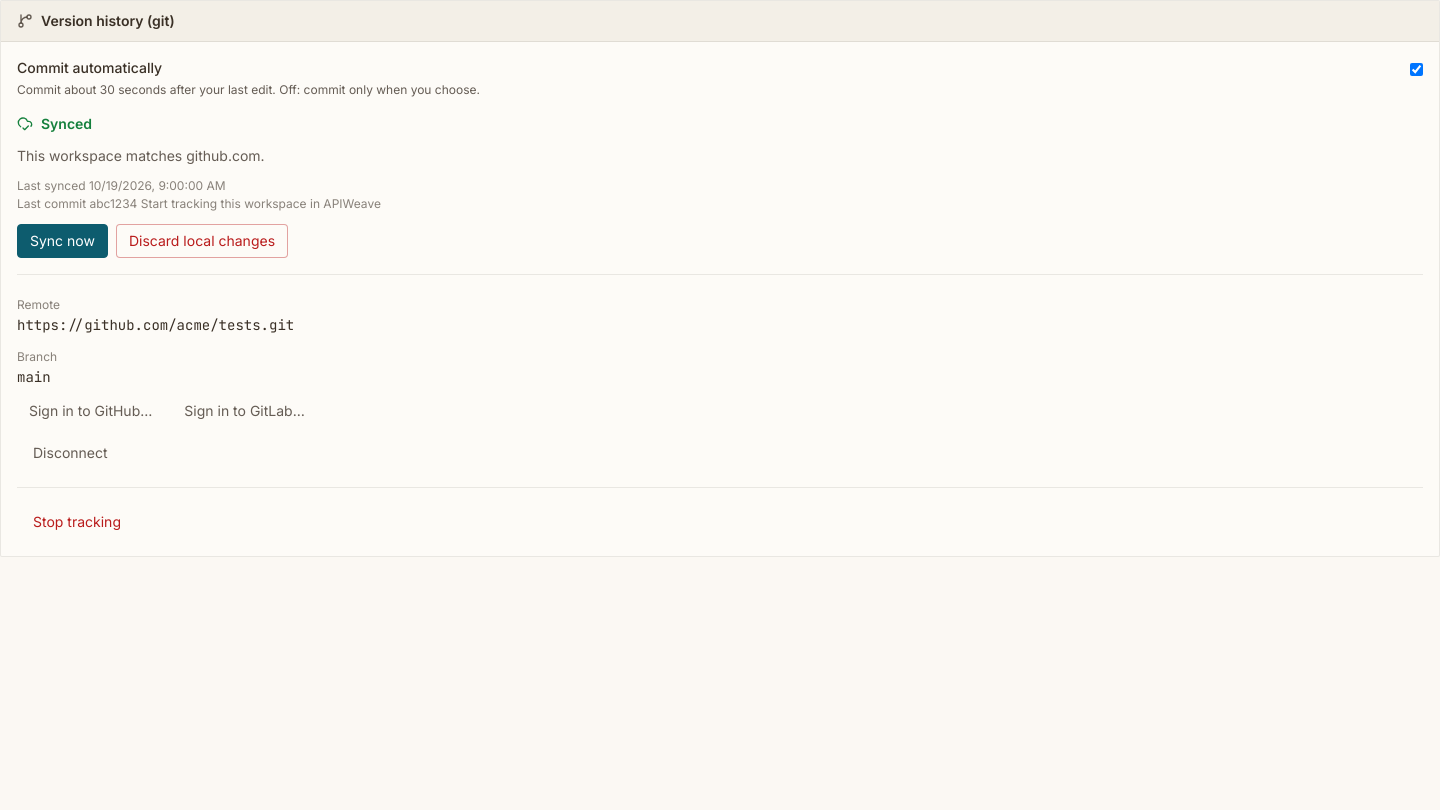
Test: VersionHistoryPanel › asks before it disconnects, then disconnects
Expected: the text "https://github.com/acme/tests.git" is shown, [17, 316, 294, 334]
Click the button "Disconnect" at [70, 453], box [17, 435, 124, 471]
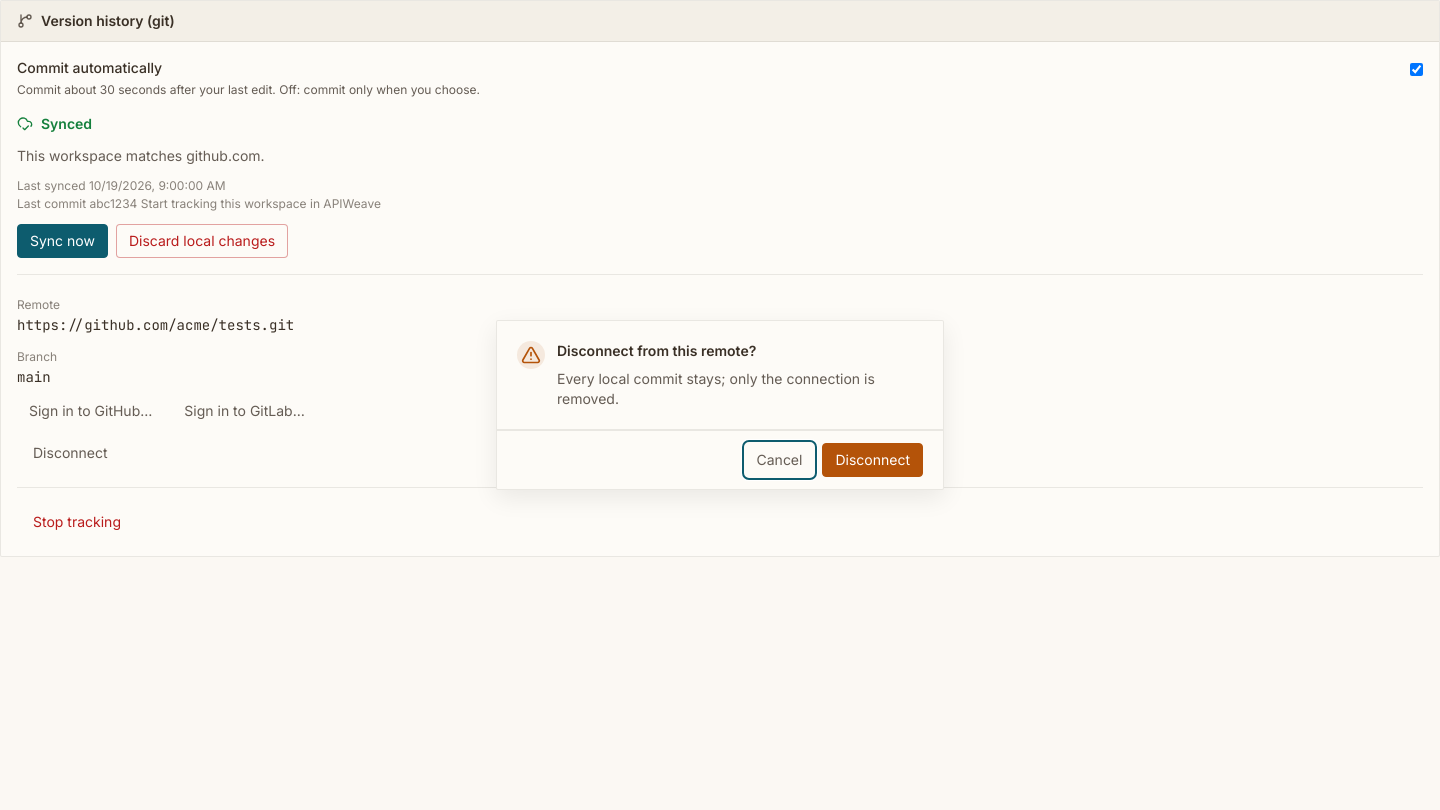
Result: the text "Every local commit stays; only the connection is removed." is shown at [557, 369, 923, 409]
Click the button "Disconnect" at [873, 460], box [822, 443, 923, 477]
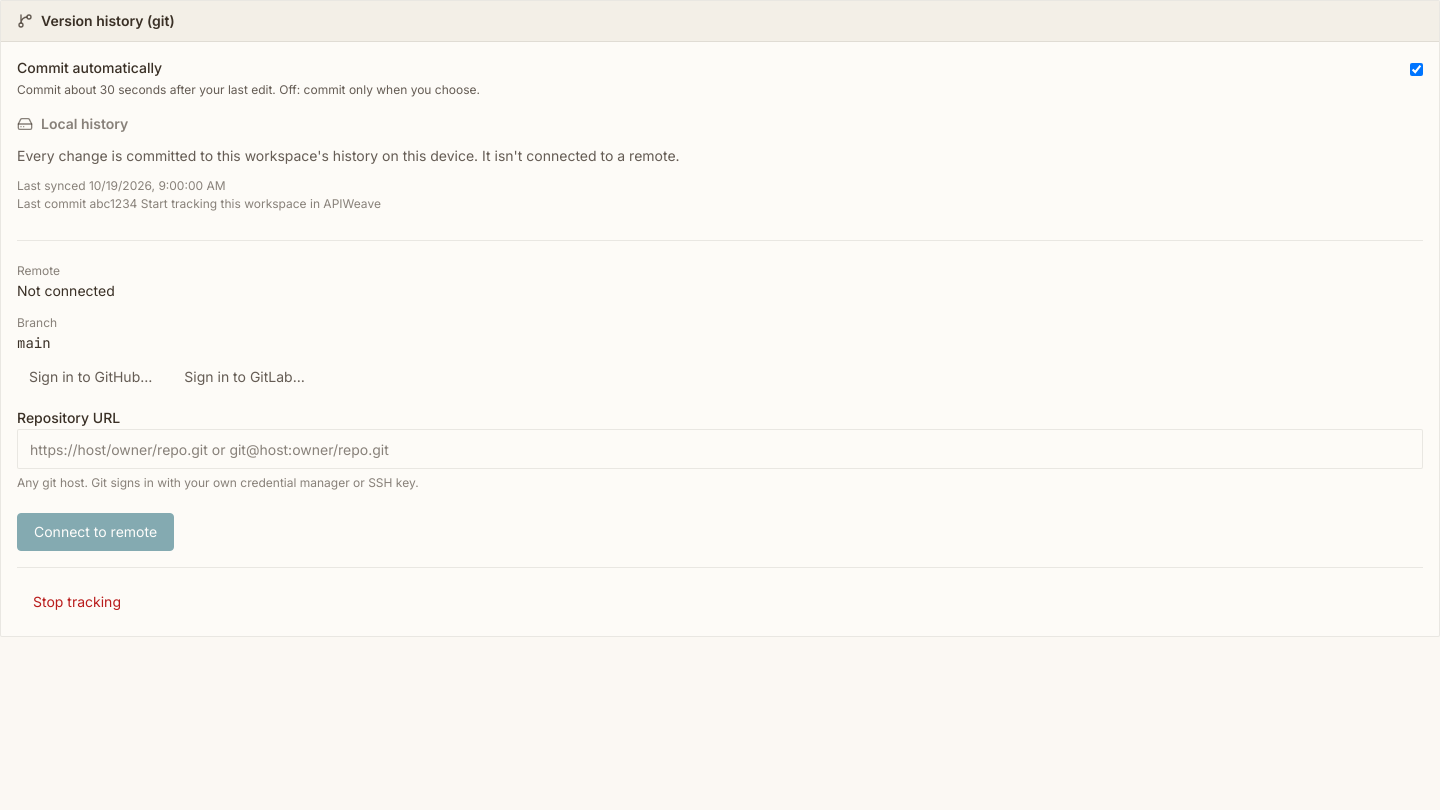
Result: the text "Not connected" is shown at [17, 282, 115, 299]
